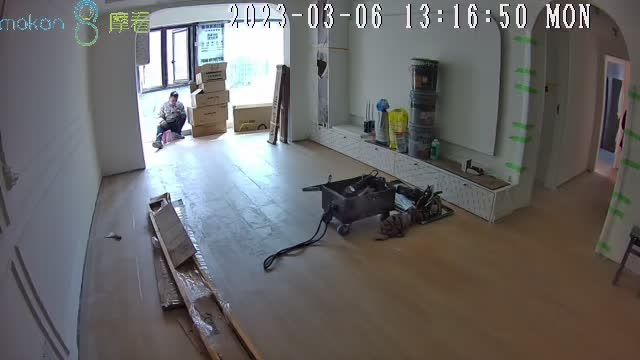people: (152, 90, 187, 149)
window: (138, 20, 284, 139)
